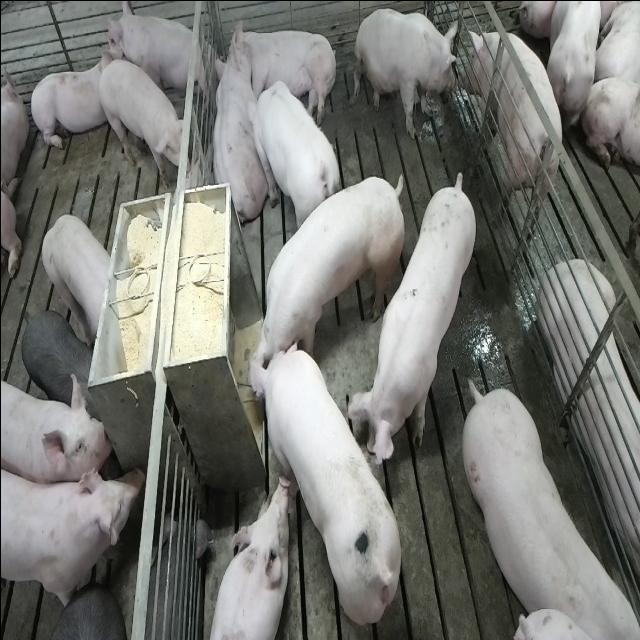Feeding: (245, 341, 402, 625), (250, 166, 408, 382)
Lateral_lying: (224, 16, 338, 128)
Sitting: (354, 6, 461, 140)
Standing: (457, 375, 635, 635), (351, 166, 479, 466), (458, 28, 562, 235), (1, 464, 140, 616), (251, 76, 340, 236), (2, 370, 110, 482), (98, 59, 188, 191), (39, 210, 111, 340), (19, 306, 96, 408), (35, 582, 126, 638)
Sternal_lying: (540, 259, 640, 594), (206, 480, 288, 640), (27, 49, 115, 154)
